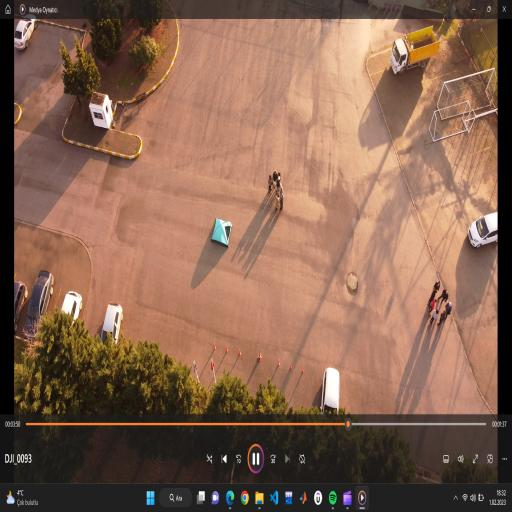tent: (210, 215, 233, 250)
